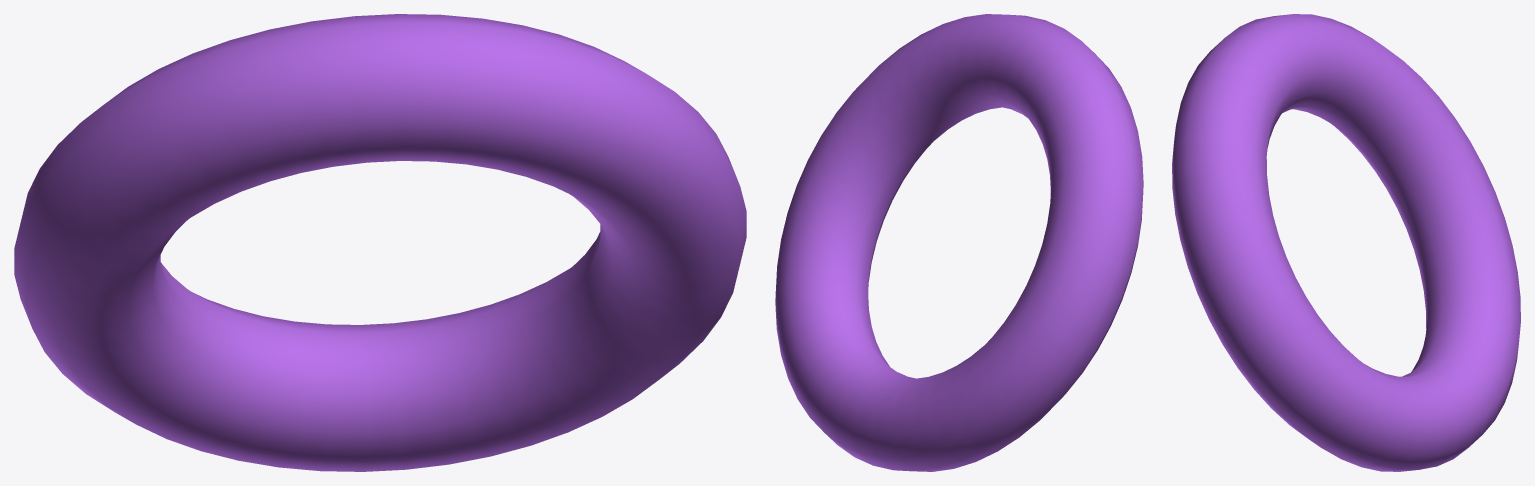
Rendered from offset-torus.glb.
3 views of the same model, side by side, from view 1: azimuth 30°, elevation 25°; view 2: azimuth 150°, elevation 25°; view 3: azimuth 270°, elevation 25° (orthographic). The views are drawn at different scales.
Visible parts, largest first — view 1: Torus; view 2: Torus; view 3: Torus.
Boxes of the visible parts, <box> form: Torus: <box>14,14,746,471</box>; Torus: <box>775,14,1143,471</box>; Torus: <box>1172,14,1520,471</box>.
Bounding box in the file's own units: 2.35 × 2.17 × 1.81.
